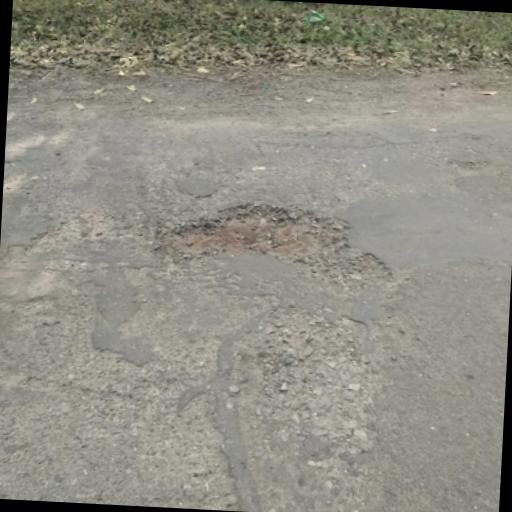pothole: (151, 192, 400, 292)
